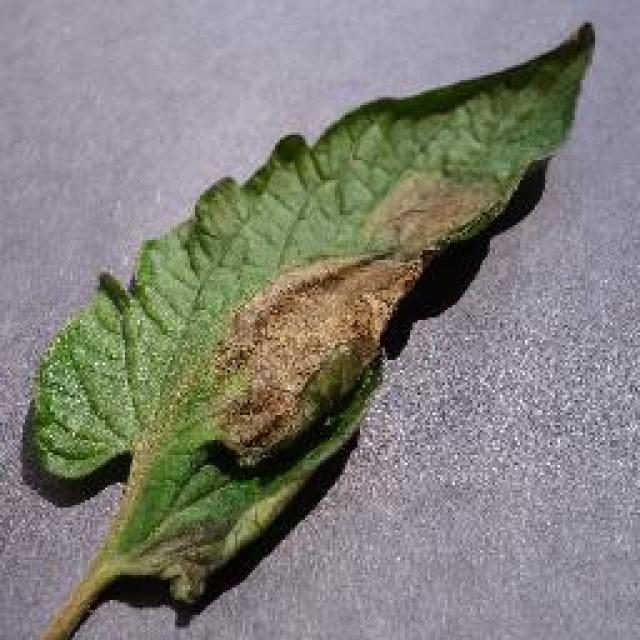Tomato Late Blight: (222, 122, 485, 458)
